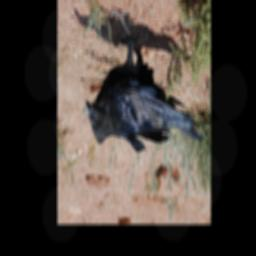Crow: (85, 6, 204, 154)
